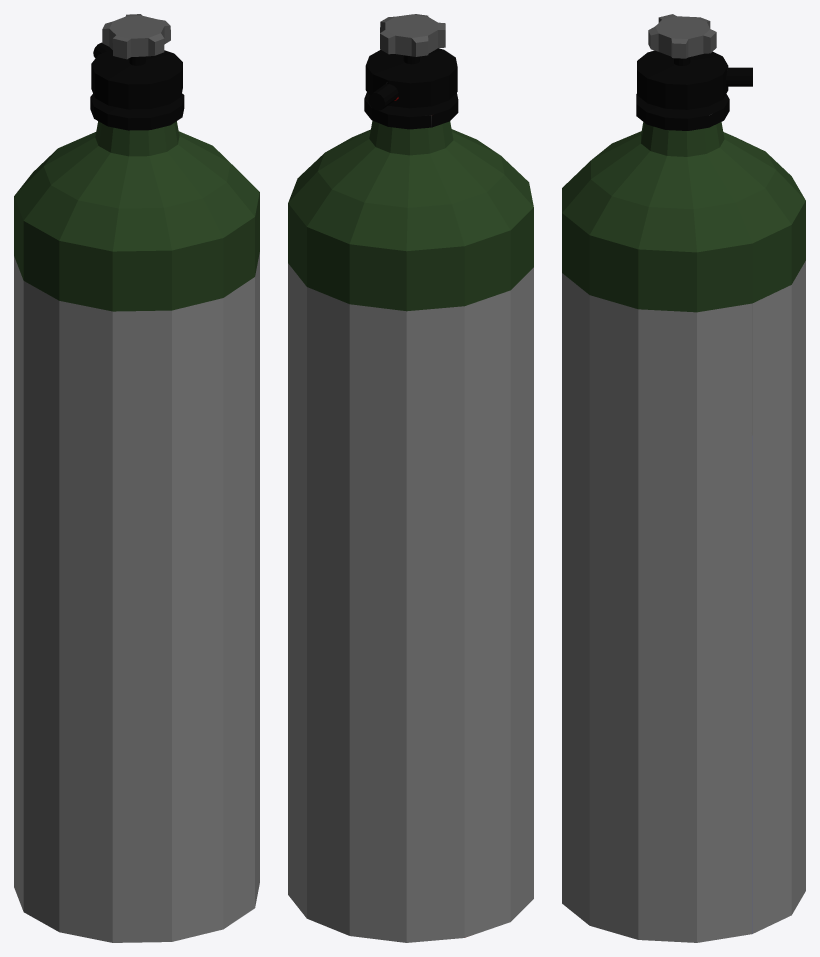
The model's file is Oxygentank1.fbx.
3 renders of one model, left to right at view 1: azimuth 30°, elevation 25°; view 2: azimuth 150°, elevation 25°; view 3: azimuth 270°, elevation 25°, orthographic.
Visible parts, largest first — view 1: Cylinder.002, Cylinder.001, Cylinder; view 2: Cylinder.002, Cylinder.001, Cylinder; view 3: Cylinder.002, Cylinder.001, Cylinder.
Part boxes in pixels (x1=…): Cylinder.002: x1=14, y1=121, x2=259, y2=942; Cylinder.001: x1=90, y1=42, x2=184, y2=130; Cylinder: x1=102, y1=14, x2=170, y2=59; Cylinder.002: x1=288, y1=120, x2=533, y2=942; Cylinder.001: x1=364, y1=48, x2=458, y2=129; Cylinder: x1=380, y1=14, x2=445, y2=56; Cylinder.002: x1=562, y1=122, x2=805, y2=942; Cylinder.001: x1=636, y1=50, x2=752, y2=130; Cylinder: x1=648, y1=14, x2=716, y2=58.
Size of the model in its own units: 30.34 by 118 by 30.11.
Materials: 2 (1 with a texture image).
